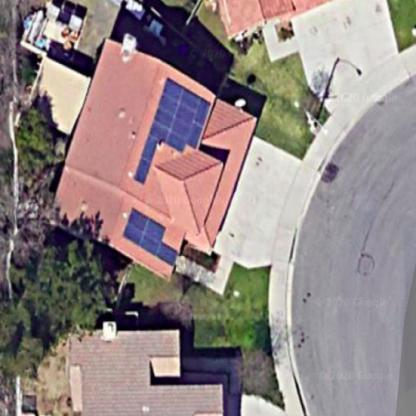solar_panel: (129, 62, 222, 186), (114, 195, 186, 269)
